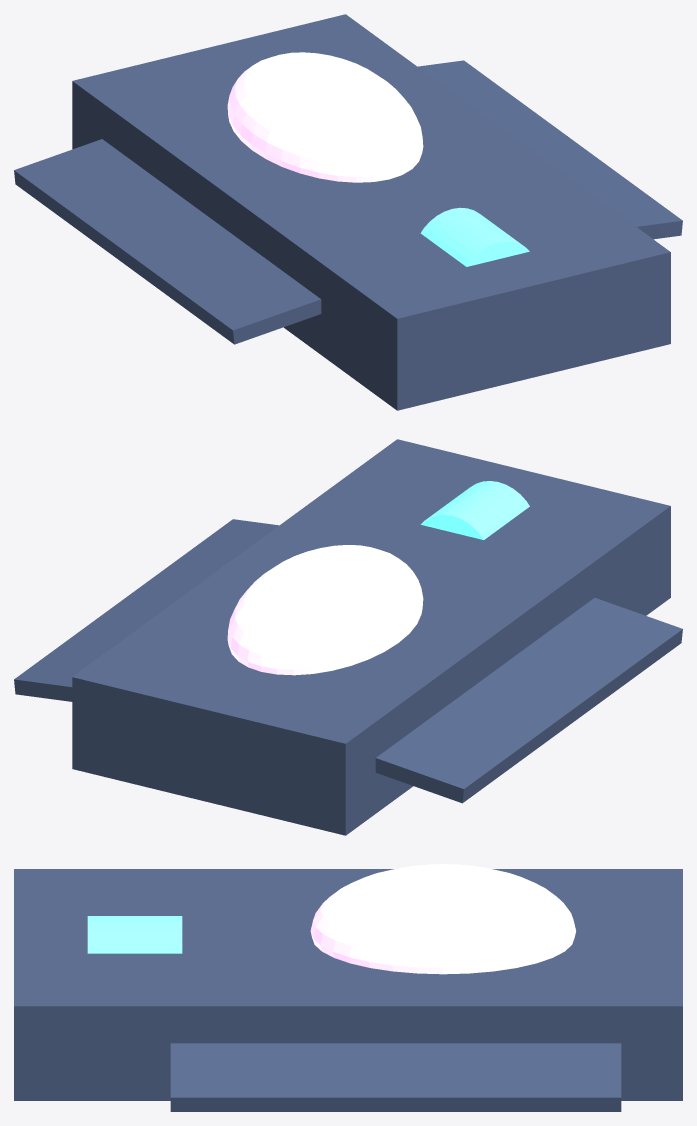
The model's file is ranger_t3.glb.
3 renders of one model, top to bottom at view 1: azimuth 30°, elevation 25°; view 2: azimuth 150°, elevation 25°; view 3: azimuth 270°, elevation 25°, orthographic. The views are drawn at different scales.
Parts seen in each view (by area): view 1: Cube, Cube.002, Sphere, Cube.001, Cylinder.002; view 2: Cube, Cube.002, Sphere, Cube.001, Cylinder.002; view 3: Cube, Cube.001, Sphere, Cylinder.002.
Boxes of the visible parts, left/top/right/bottom form: Cube: left=72, top=14, right=670, bottom=410; Cube.002: left=14, top=139, right=321, bottom=344; Sphere: left=227, top=52, right=423, bottom=182; Cube.001: left=418, top=60, right=682, bottom=239; Cylinder.002: left=420, top=207, right=529, bottom=266; Cube: left=72, top=439, right=670, bottom=835; Cube.002: left=375, top=598, right=682, bottom=803; Sphere: left=227, top=545, right=423, bottom=675; Cube.001: left=14, top=519, right=278, bottom=701; Cylinder.002: left=421, top=481, right=529, bottom=539; Cube: left=14, top=869, right=682, bottom=1100; Cube.001: left=170, top=1043, right=621, bottom=1111; Sphere: left=310, top=864, right=575, bottom=974; Cylinder.002: left=87, top=916, right=182, bottom=953.
Bounding box in the file's own units: 2.25 × 0.73 × 2.82.
